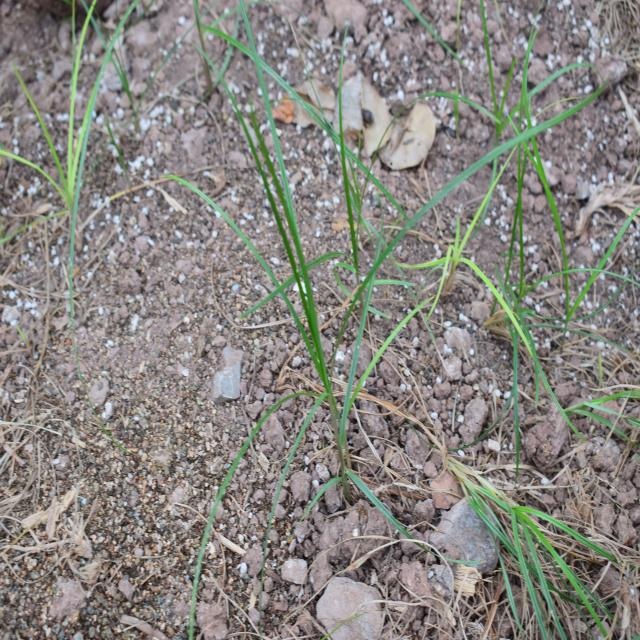sedge: (170, 32, 473, 580)
